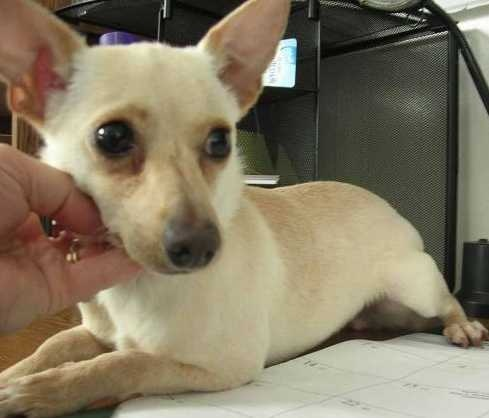dog: (0, 0, 433, 378)
